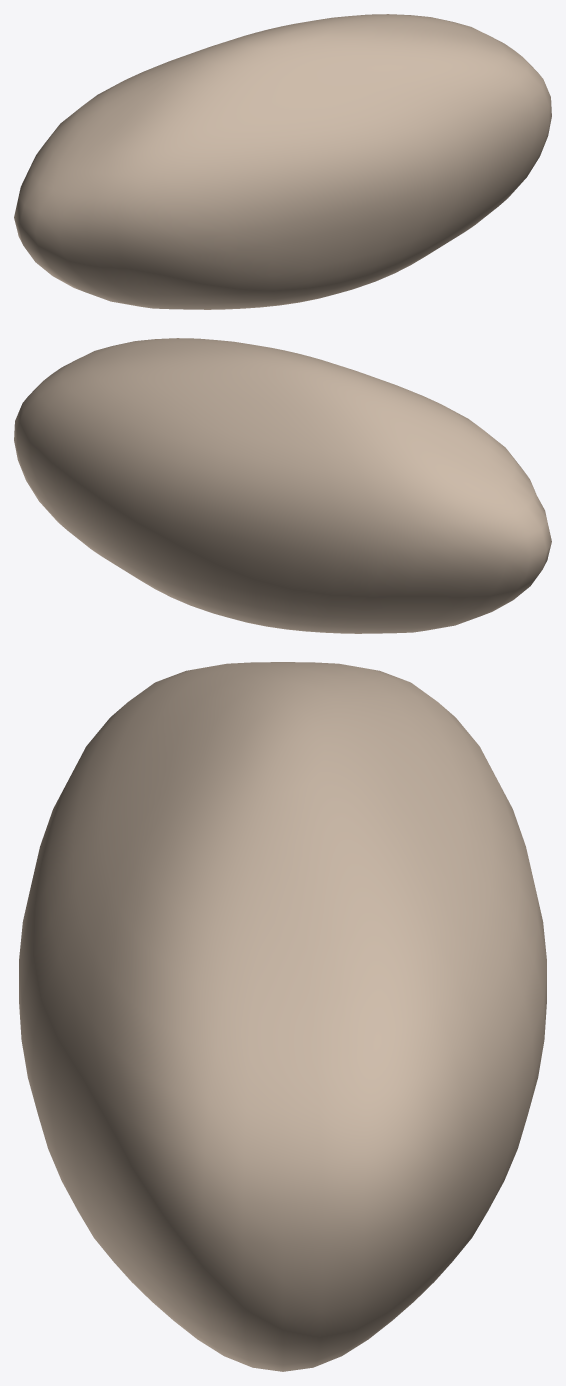
File: eros.glb
3 views of the same model, one above another, from view 1: azimuth 30°, elevation 25°; view 2: azimuth 150°, elevation 25°; view 3: azimuth 270°, elevation 25° (orthographic). The views are drawn at different scales.
Size of the model in its own units: 3.41 by 1.56 by 1.5.
